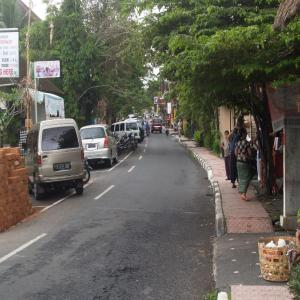Vehicle-registration-plate: (55, 163, 72, 173)
